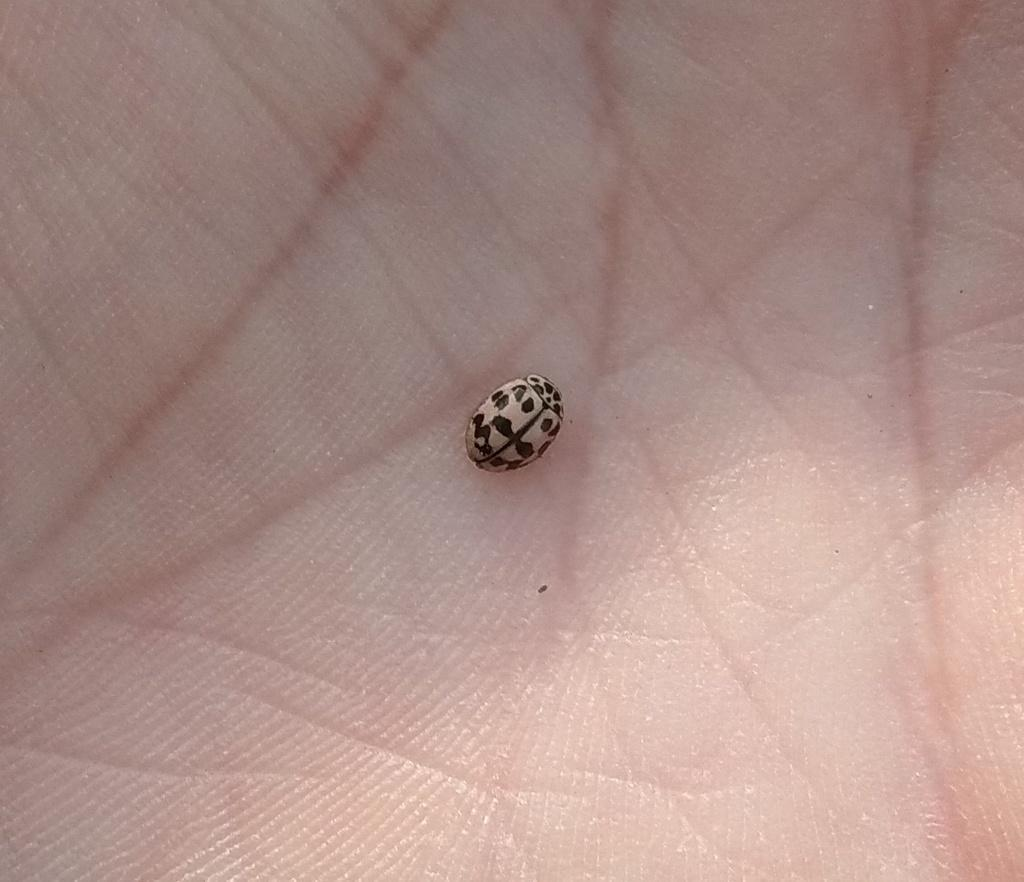ladybug: (464, 371, 569, 476)
